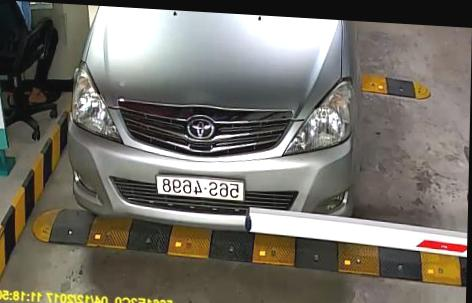License_Plate: (156, 172, 247, 202)
